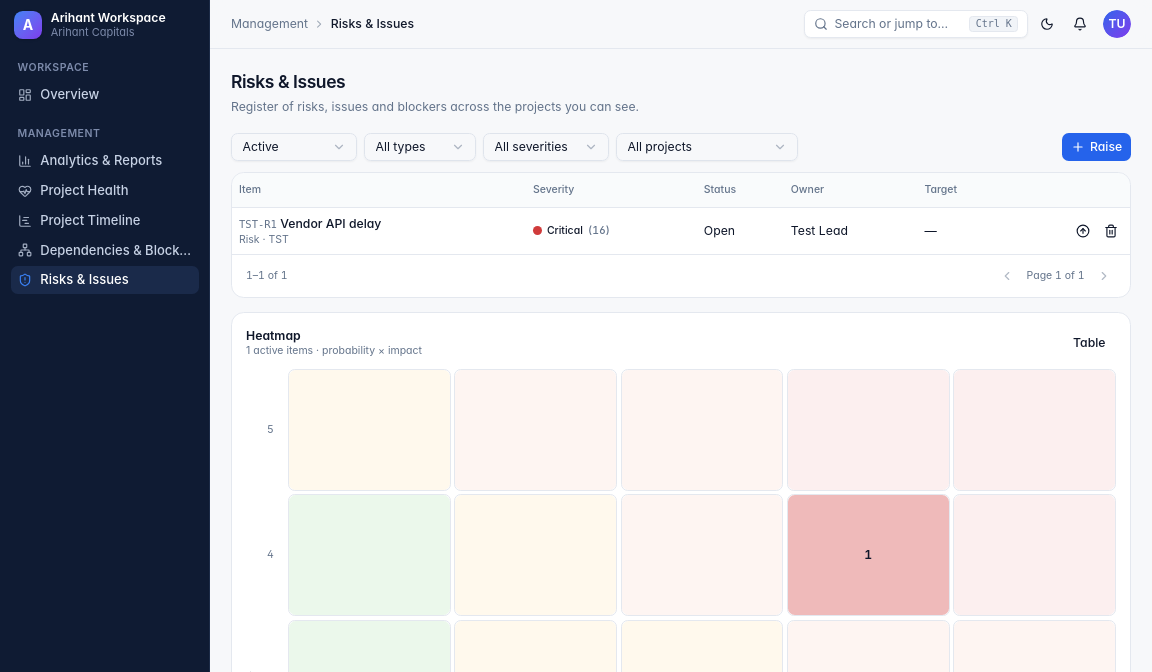
Test: Risks & issues › lists risks with severity labels and shows the heatmap as a table
The image size is (1152, 672).
Expected: the row "TST-R1" shows "Critical", [547,224,583,237]
Expected: the row "TST-R1" shows "(16)", [592,224,606,237]
Click the button "Table" at (1089, 342), box [1062,328,1116,356]
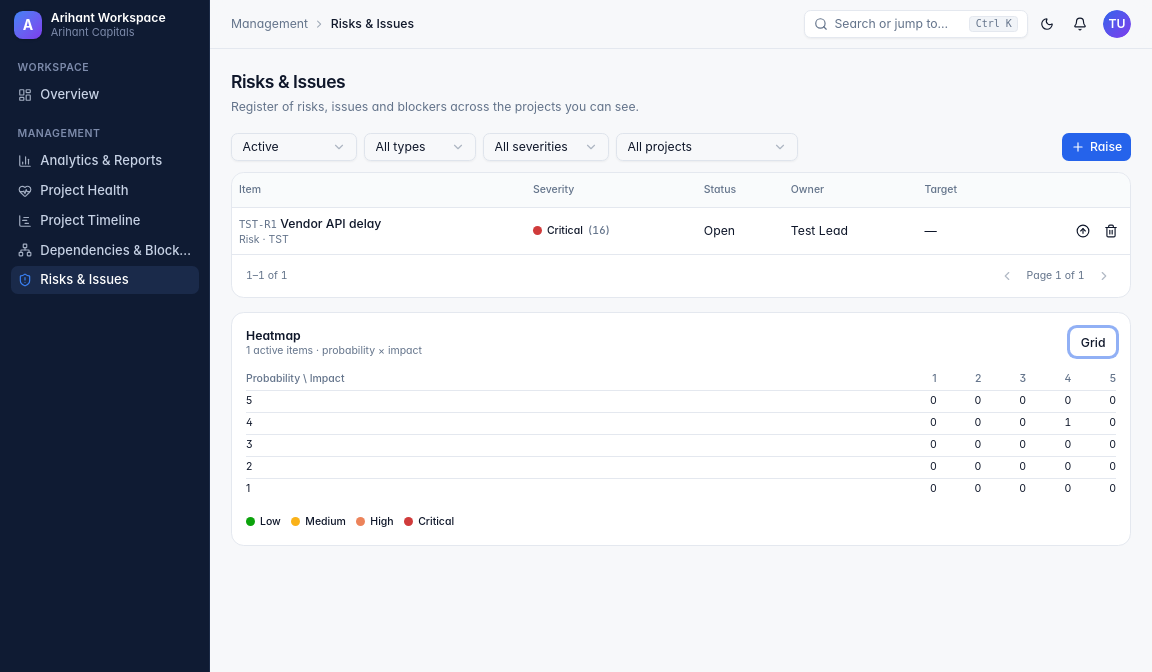
Now the cells read "4", "0", "0", "0", "1", "0", in this order, box [246,412,892,434]; [892,412,937,434]; [937,412,981,434]; [981,412,1026,434]; [1026,412,1071,434]; [1071,412,1116,434]
